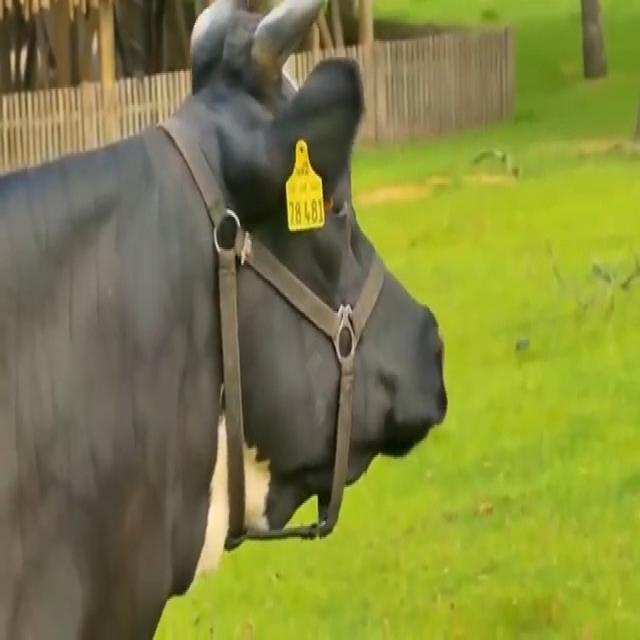cow: (0, 0, 446, 637)
